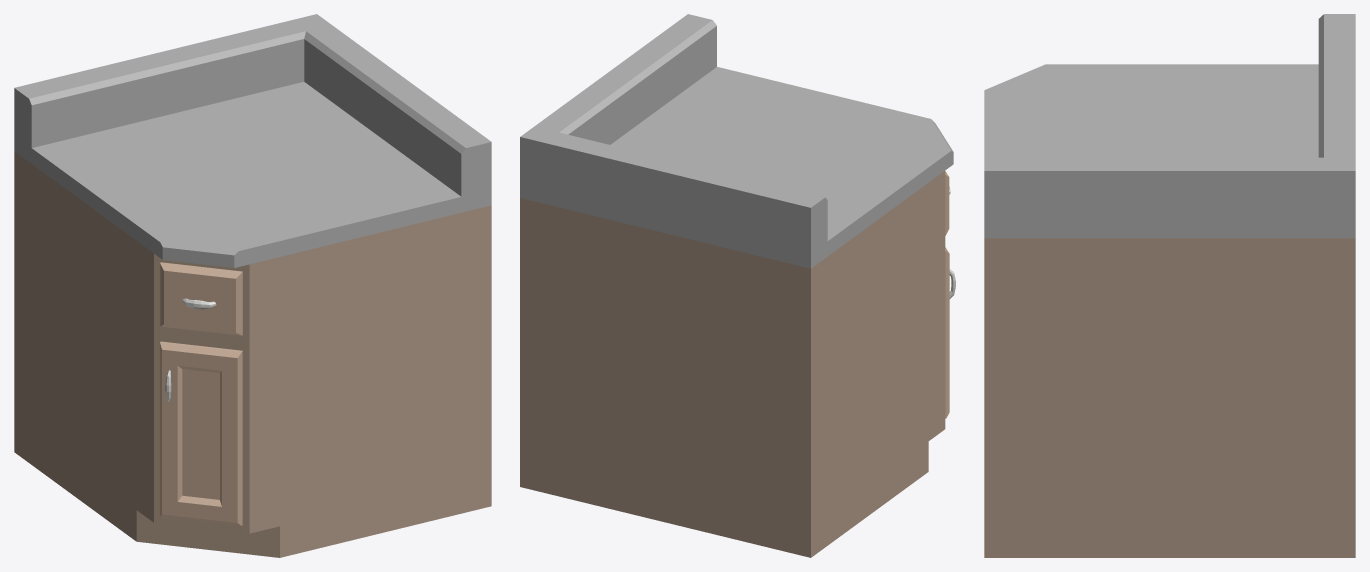
Rendered from Structure_Kitchen_Cabinet_Base_Corner.fbx.
3 views of the same model, side by side, from view 1: azimuth 30°, elevation 25°; view 2: azimuth 150°, elevation 25°; view 3: azimuth 270°, elevation 25° (orthographic). The views are drawn at different scales.
Parts seen in each view (by area): view 1: object3.035, object2.046, object6.008, object1.083; view 2: object3.035, object2.046, object6.008; view 3: object3.035, object2.046.
Part boxes in pixels (x1,y1,x2,y2): object3.035: (14, 151, 491, 557); object2.046: (14, 14, 491, 267); object6.008: (160, 341, 242, 526); object1.083: (160, 262, 242, 335); object3.035: (520, 171, 945, 557); object2.046: (520, 14, 953, 268); object6.008: (945, 247, 949, 418); object3.035: (984, 238, 1355, 557); object2.046: (984, 14, 1355, 238).
Size of the model in its own units: 100 by 115 by 100.
